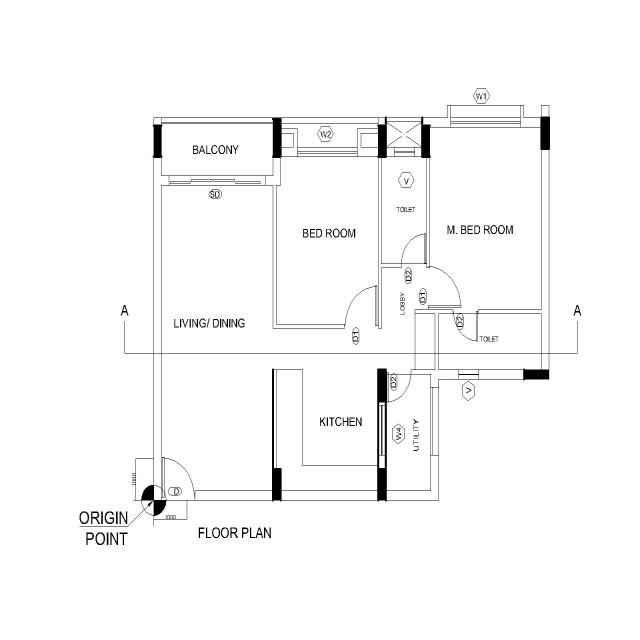Column: (377, 116, 388, 160), (421, 116, 431, 160), (272, 117, 282, 159), (271, 467, 282, 503), (152, 123, 163, 159), (540, 115, 551, 151), (523, 368, 550, 381), (376, 367, 388, 396), (377, 473, 388, 503)
Door: (160, 489, 198, 502), (342, 320, 384, 330), (425, 260, 433, 311), (399, 259, 431, 271), (385, 368, 415, 377), (452, 308, 480, 316)
Sliding Door: (168, 175, 267, 188)
Ventilator: (458, 368, 480, 381), (394, 146, 416, 158)
Window: (449, 116, 522, 129), (376, 400, 388, 470), (296, 146, 359, 158)
